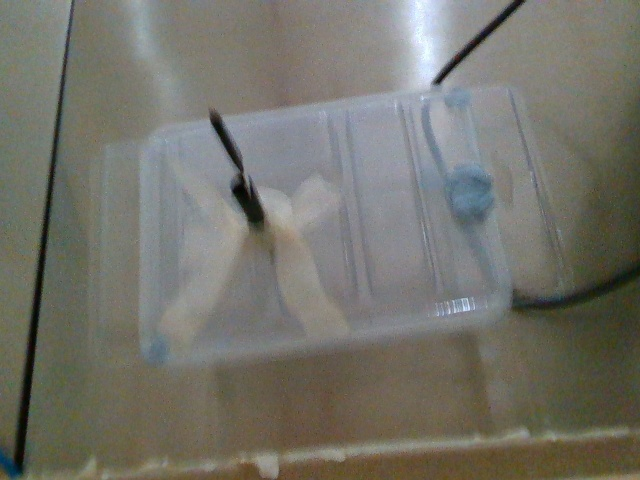test_strip: (203, 110, 250, 192)
